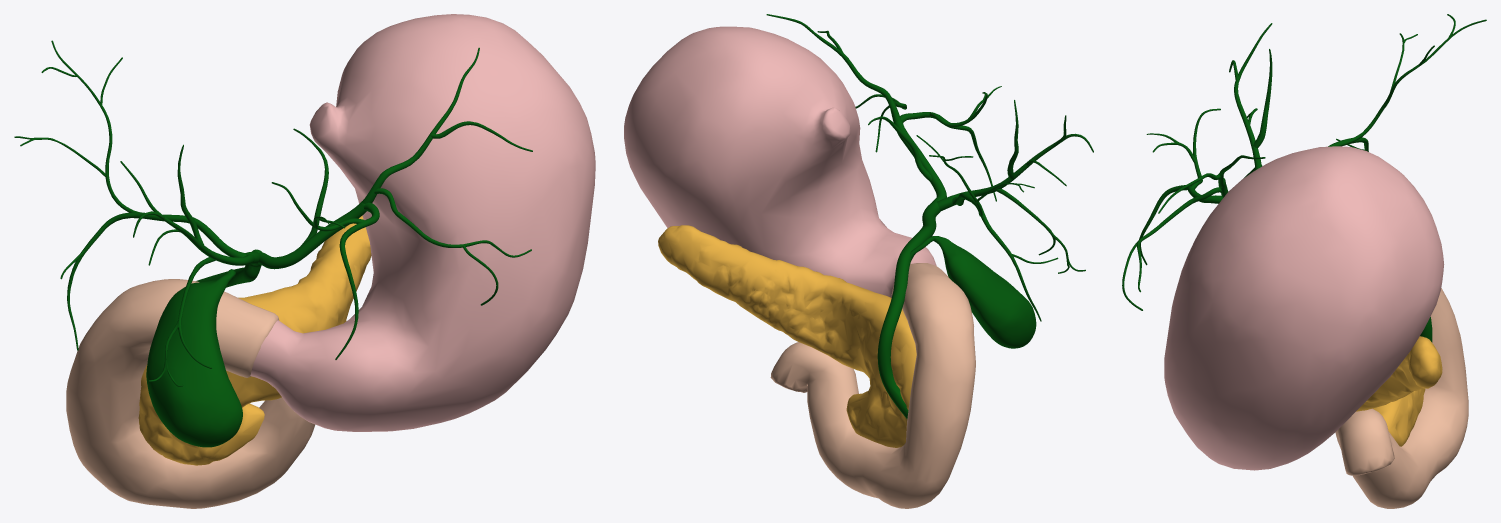
File: pancreas.glb
The picture shows the model from 3 angles, left to right: view 1: azimuth 30°, elevation 25°; view 2: azimuth 150°, elevation 25°; view 3: azimuth 270°, elevation 25°; orthographic projection. The views are drawn at different scales.
Visible parts, largest first — view 1: estmg.016_0; view 2: estmg.016_0; view 3: estmg.016_0.
Boxes of the visible parts, x1,y1,x2,y2 form: estmg.016_0: (14,14,595,508); estmg.016_0: (624,14,1093,508); estmg.016_0: (1122,14,1486,508).
Bounding box in the file's own units: 197 × 171 × 130.
